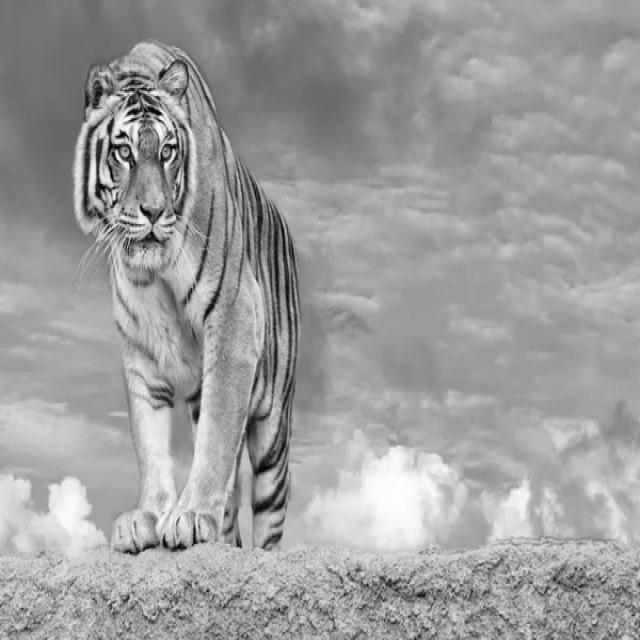Animal: (70, 33, 303, 554)
